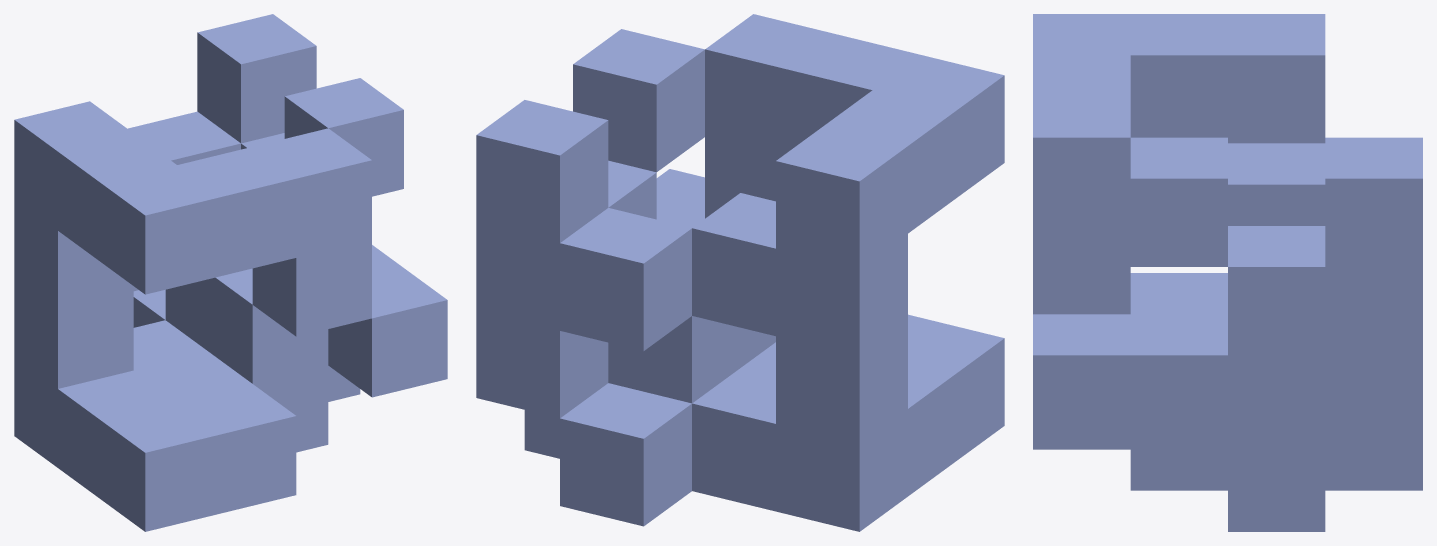
3 views of the same model, side by side, from view 1: azimuth 30°, elevation 25°; view 2: azimuth 150°, elevation 25°; view 3: azimuth 270°, elevation 25° (orthographic). The views are drawn at different scales.
Visible parts, largest first — view 1: _changes.009; view 2: _changes.009; view 3: _changes.009.
Part boxes in pixels (<box>): _changes.009: <box>14,14,447,531</box>; _changes.009: <box>476,14,1004,531</box>; _changes.009: <box>1033,14,1422,531</box>.
Bounding box in the file's own units: 0.1041 × 0.1041 × 0.1041.
